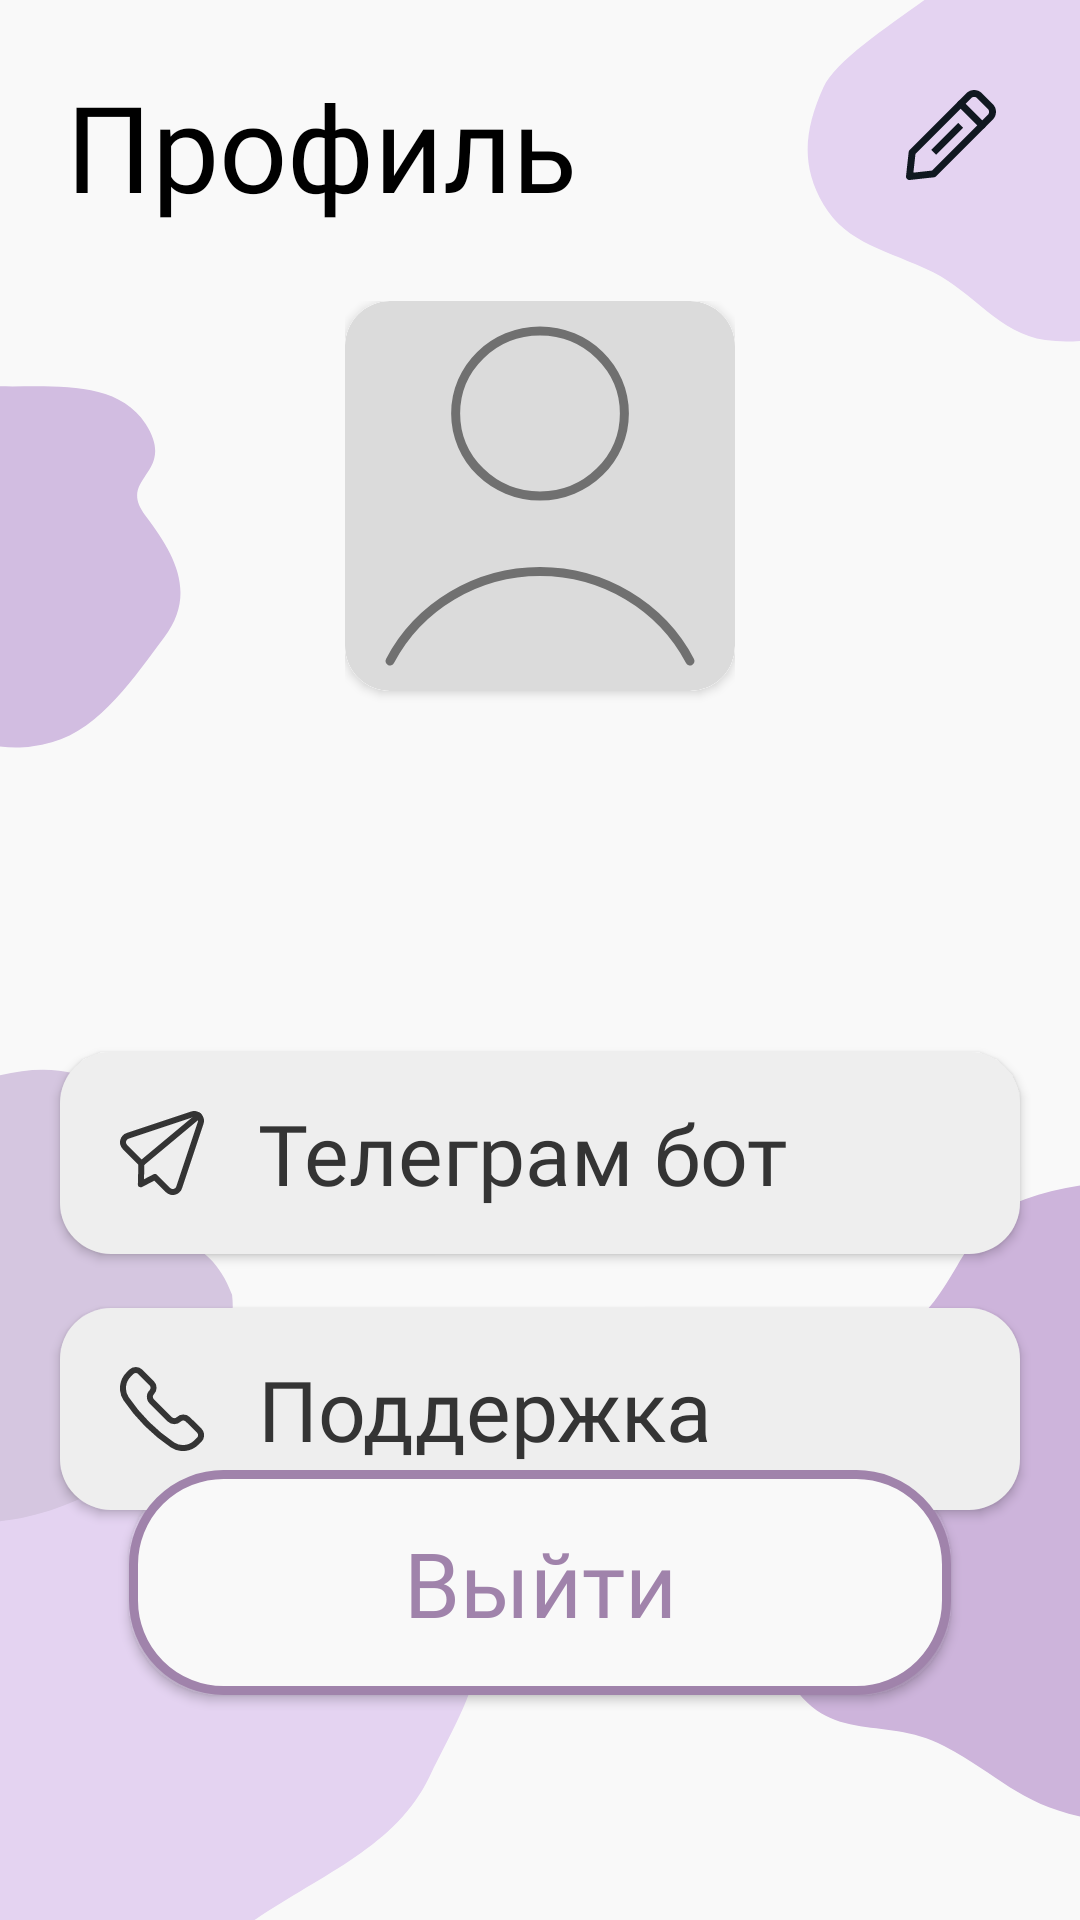

Icon bounding boxes for this 1080*1920 phone screenshot, format (x1, y1, x2, y2):
edit: (906, 90, 996, 180)
